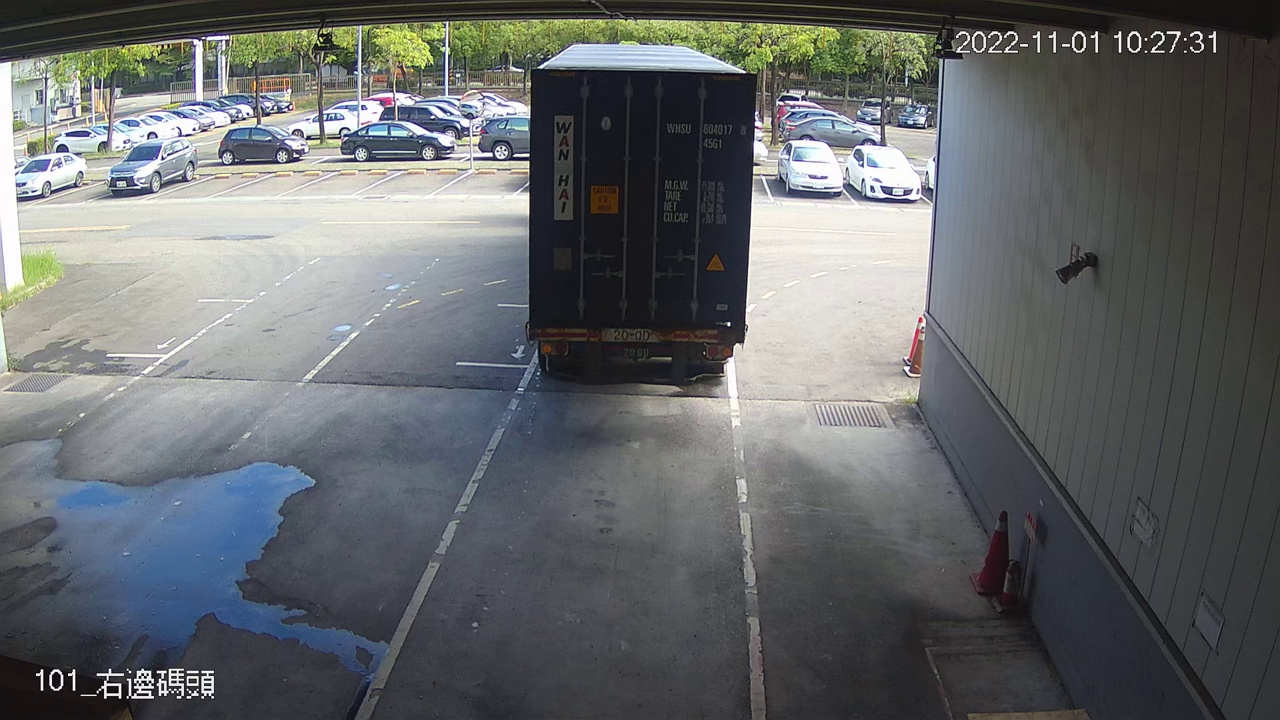container: (660, 115, 750, 155)
